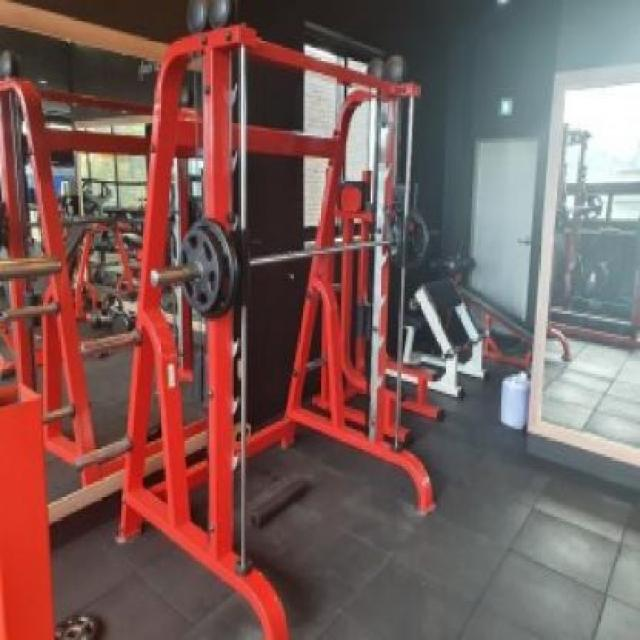smith machine: (115, 21, 438, 640)
